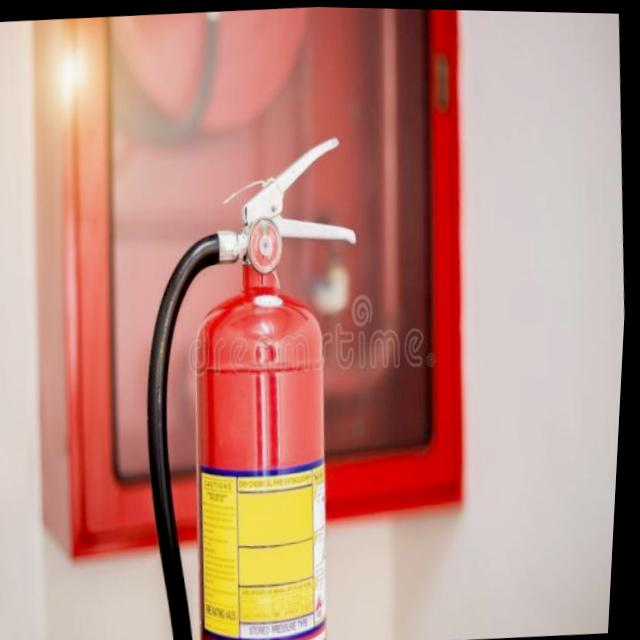FireExtinguisher: (117, 124, 393, 640)
